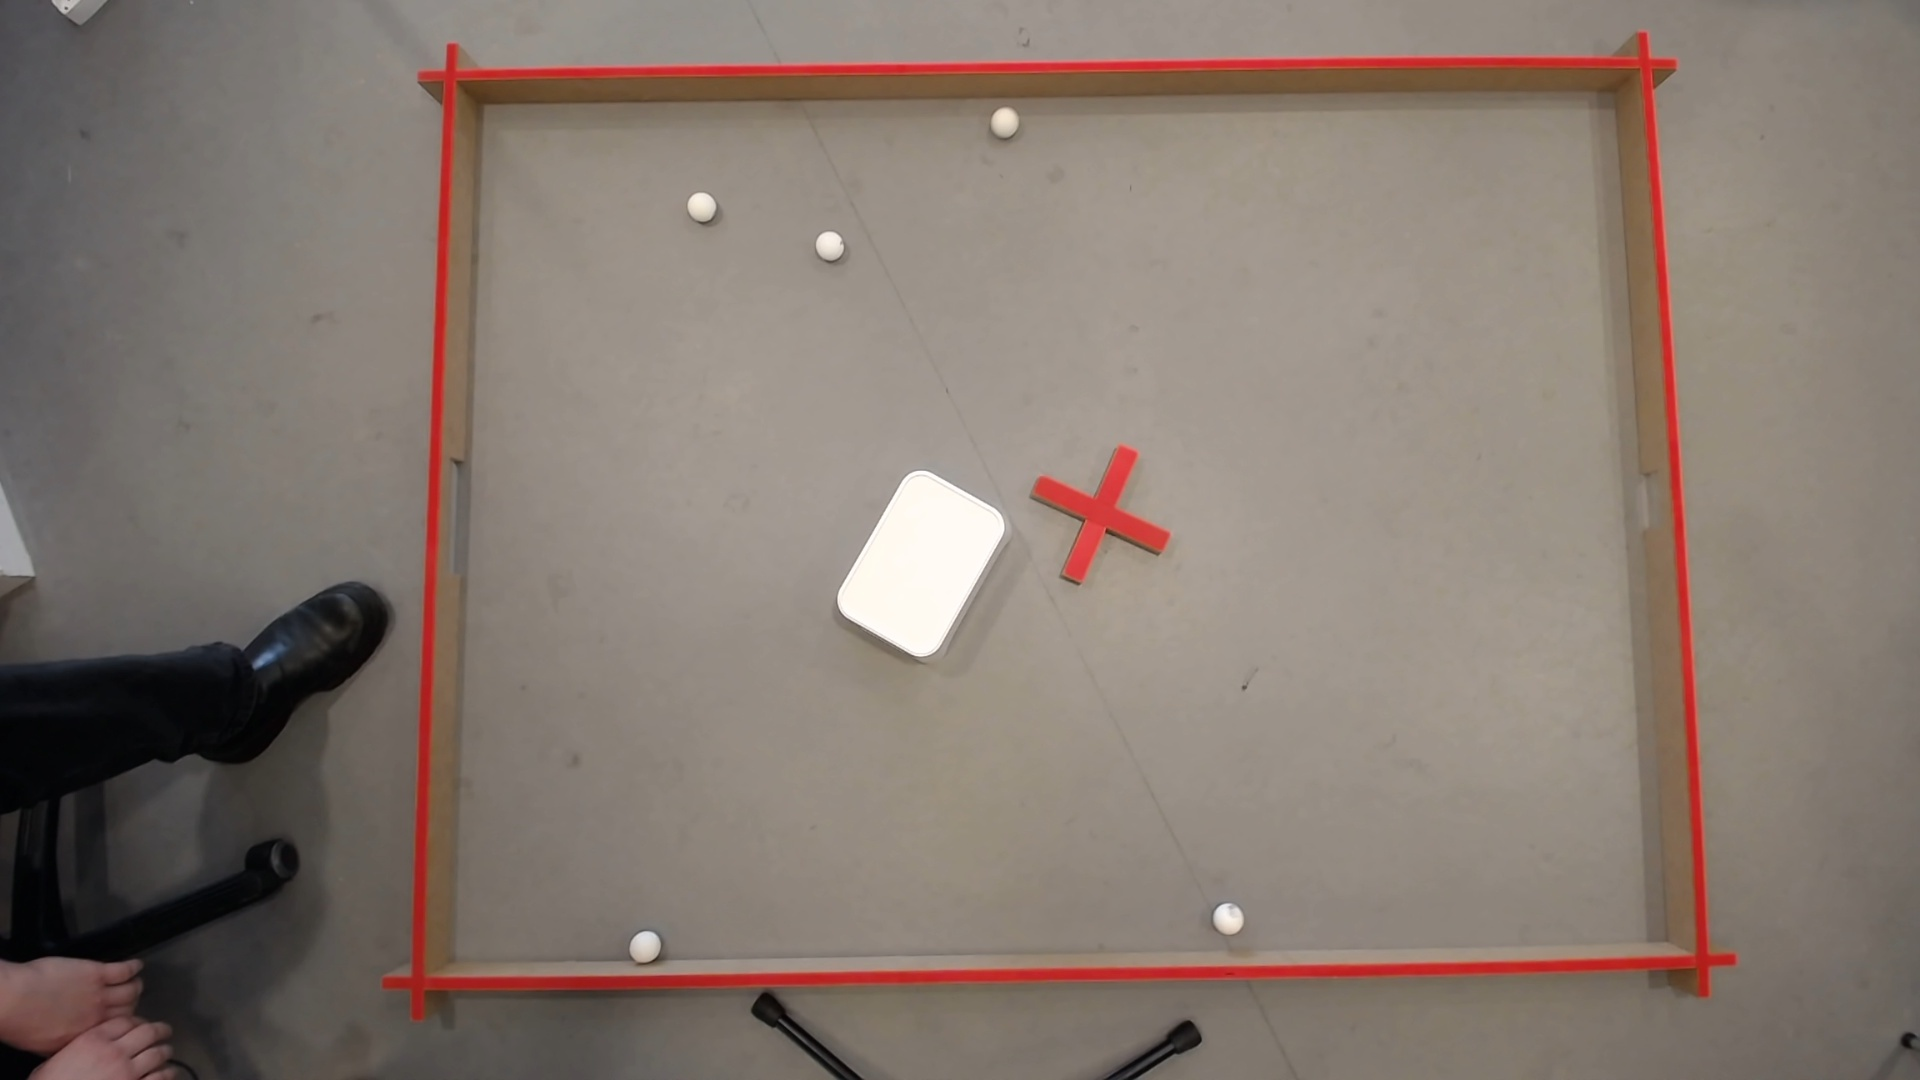balls: (828, 460, 1013, 665), (1209, 898, 1246, 934), (628, 924, 662, 959), (687, 193, 715, 214), (816, 231, 841, 253)
car: (993, 108, 1015, 129)
